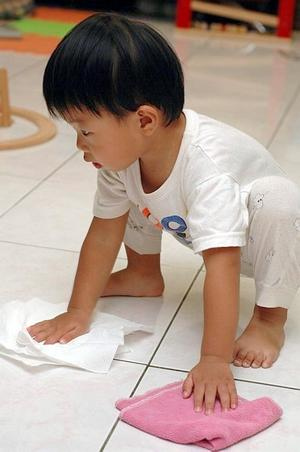person: (27, 11, 300, 415)
